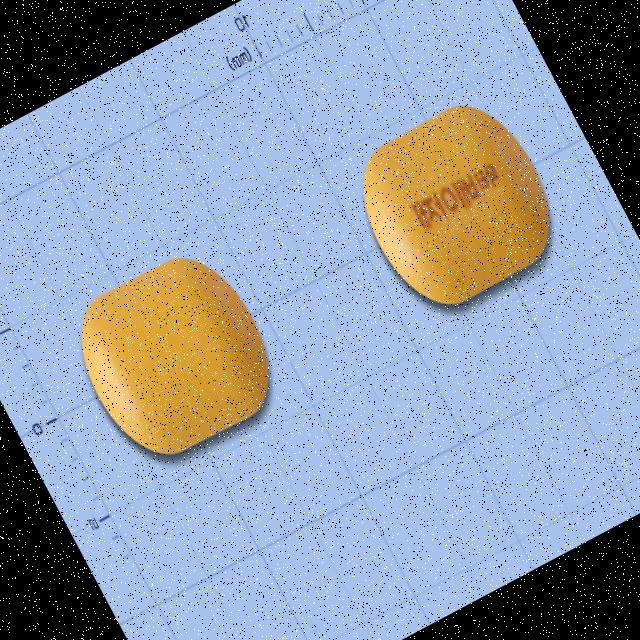Dr- Bearse: (54, 235, 292, 474), (338, 84, 574, 323)
